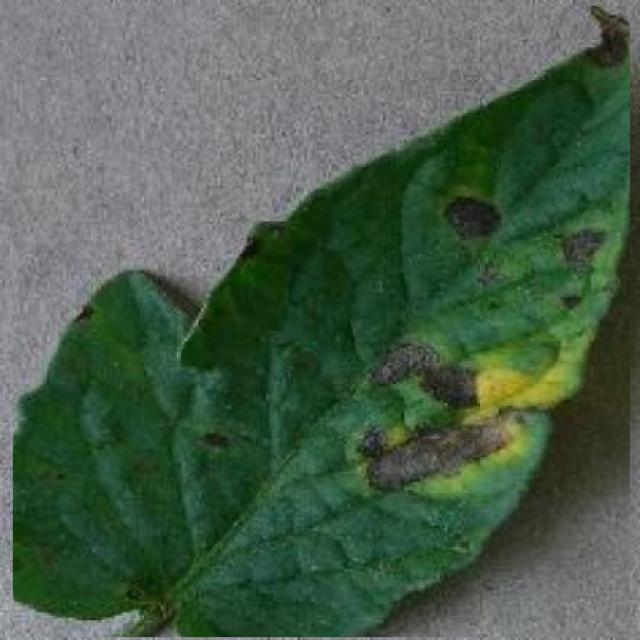Early Blight: (14, 6, 630, 637)
